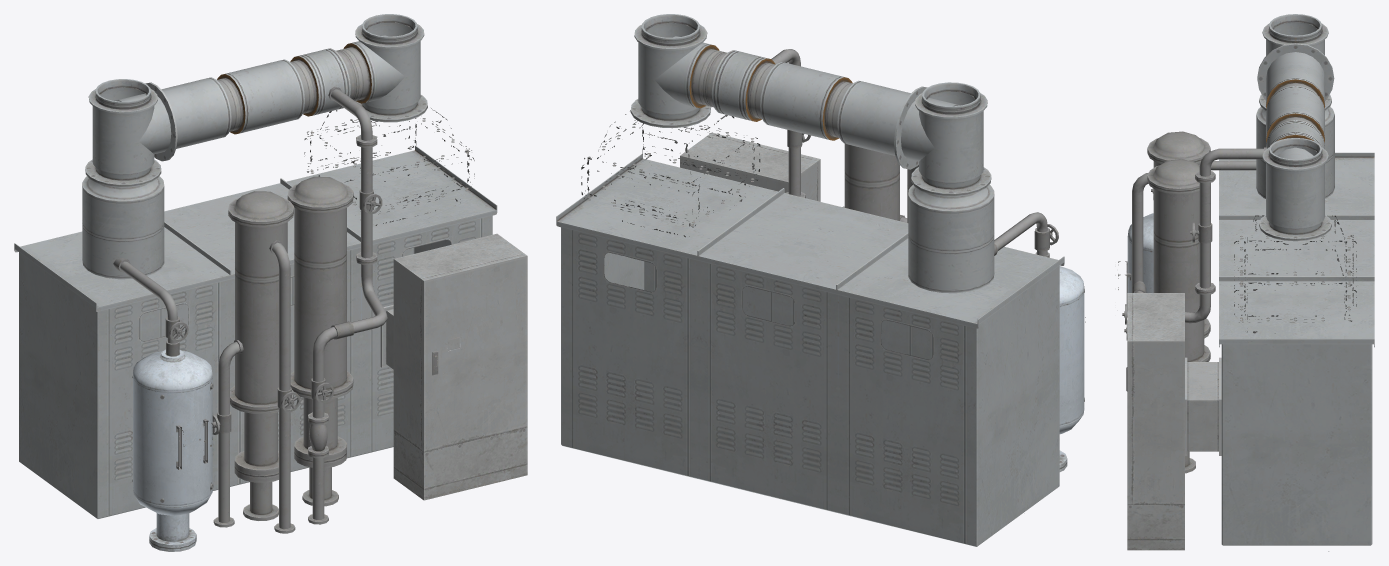
Rendered from sm22_055_wasteheatboiler01a.fbx.
3 renders of one model, left to right at view 1: azimuth 30°, elevation 25°; view 2: azimuth 150°, elevation 25°; view 3: azimuth 270°, elevation 25°, orthographic. The views are drawn at different scales.
Visible parts, largest first — view 1: LOD_1_Group_0_Sub_1__sm22_055_WasteHeatBoiler01A_A_Mat, LOD_1_Group_3_Sub_1__sm22_055_WasteHeatBoiler01A_B_Mat, LOD_1_Group_1_Sub_1__sm22_055_WasteHeatBoiler01A_A_Mat, LOD_1_Group_4_Sub_1__sm22_055_WasteHeatBoiler01A_B_Mat, LOD_1_Group_2_Sub_1__sm22_055_WasteHeatBoiler01A_B_Mat; view 2: LOD_1_Group_0_Sub_1__sm22_055_WasteHeatBoiler01A_A_Mat, LOD_1_Group_1_Sub_1__sm22_055_WasteHeatBoiler01A_A_Mat, LOD_1_Group_2_Sub_1__sm22_055_WasteHeatBoiler01A_B_Mat, LOD_1_Group_3_Sub_1__sm22_055_WasteHeatBoiler01A_B_Mat, LOD_1_Group_4_Sub_1__sm22_055_WasteHeatBoiler01A_B_Mat; view 3: LOD_1_Group_0_Sub_1__sm22_055_WasteHeatBoiler01A_A_Mat, LOD_1_Group_4_Sub_1__sm22_055_WasteHeatBoiler01A_B_Mat, LOD_1_Group_1_Sub_1__sm22_055_WasteHeatBoiler01A_A_Mat, LOD_1_Group_3_Sub_1__sm22_055_WasteHeatBoiler01A_B_Mat, LOD_1_Group_2_Sub_1__sm22_055_WasteHeatBoiler01A_B_Mat.
Boxes of the visible parts, left/top/right/bottom form: LOD_1_Group_0_Sub_1__sm22_055_WasteHeatBoiler01A_A_Mat: left=14, top=145, right=497, bottom=518; LOD_1_Group_3_Sub_1__sm22_055_WasteHeatBoiler01A_B_Mat: left=212, top=86, right=387, bottom=533; LOD_1_Group_1_Sub_1__sm22_055_WasteHeatBoiler01A_A_Mat: left=82, top=14, right=474, bottom=279; LOD_1_Group_4_Sub_1__sm22_055_WasteHeatBoiler01A_B_Mat: left=380, top=233, right=527, bottom=500; LOD_1_Group_2_Sub_1__sm22_055_WasteHeatBoiler01A_B_Mat: left=113, top=258, right=213, bottom=551; LOD_1_Group_0_Sub_1__sm22_055_WasteHeatBoiler01A_A_Mat: left=556, top=153, right=1064, bottom=546; LOD_1_Group_1_Sub_1__sm22_055_WasteHeatBoiler01A_A_Mat: left=581, top=14, right=994, bottom=293; LOD_1_Group_2_Sub_1__sm22_055_WasteHeatBoiler01A_B_Mat: left=994, top=212, right=1085, bottom=471; LOD_1_Group_3_Sub_1__sm22_055_WasteHeatBoiler01A_B_Mat: left=771, top=49, right=918, bottom=222; LOD_1_Group_4_Sub_1__sm22_055_WasteHeatBoiler01A_B_Mat: left=680, top=132, right=820, bottom=201; LOD_1_Group_0_Sub_1__sm22_055_WasteHeatBoiler01A_A_Mat: left=1219, top=152, right=1374, bottom=551; LOD_1_Group_4_Sub_1__sm22_055_WasteHeatBoiler01A_B_Mat: left=1126, top=293, right=1221, bottom=550; LOD_1_Group_1_Sub_1__sm22_055_WasteHeatBoiler01A_A_Mat: left=1234, top=14, right=1356, bottom=333; LOD_1_Group_3_Sub_1__sm22_055_WasteHeatBoiler01A_B_Mat: left=1122, top=131, right=1266, bottom=473; LOD_1_Group_2_Sub_1__sm22_055_WasteHeatBoiler01A_B_Mat: left=1115, top=161, right=1256, bottom=310.
Size of the model in its own units: 3.37 by 3.19 by 1.99.
